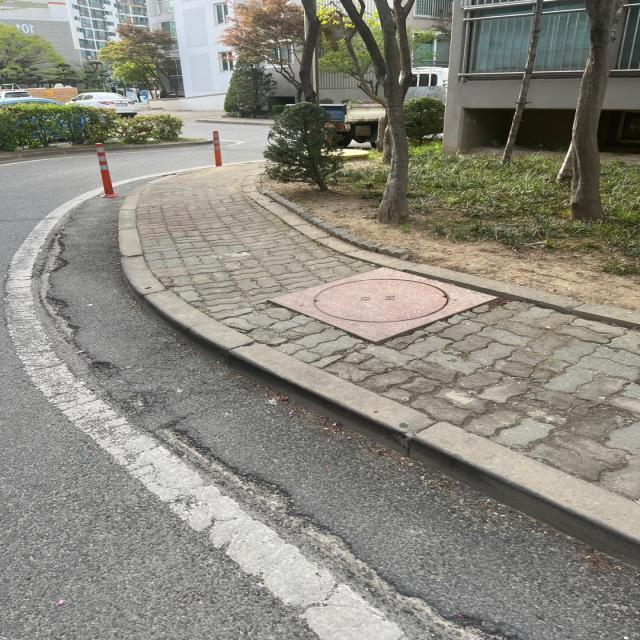Sewer Cover: (249, 256, 507, 350)
